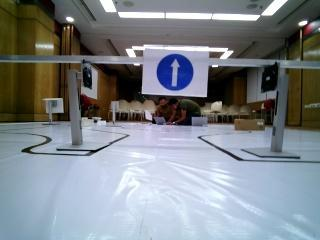straight: (140, 48, 216, 93)
